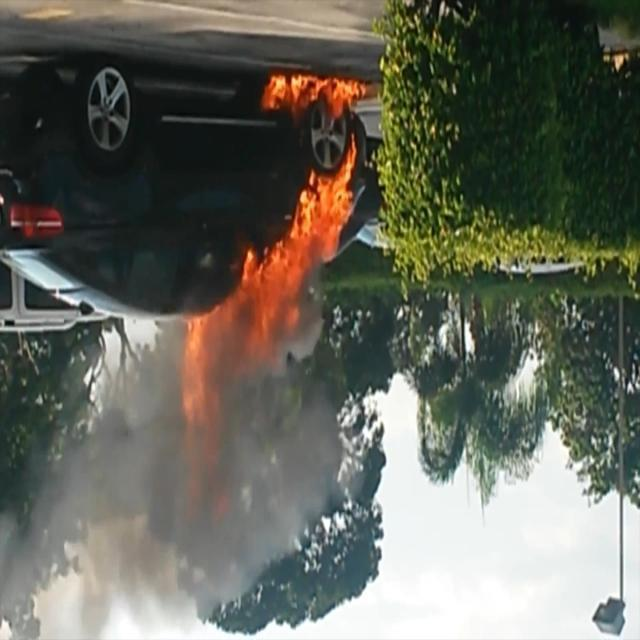fire: (178, 72, 368, 441)
